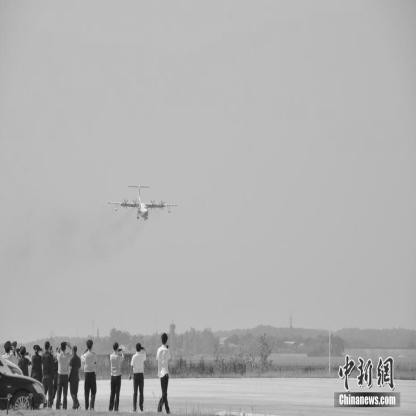AG600: (108, 185, 178, 222)
